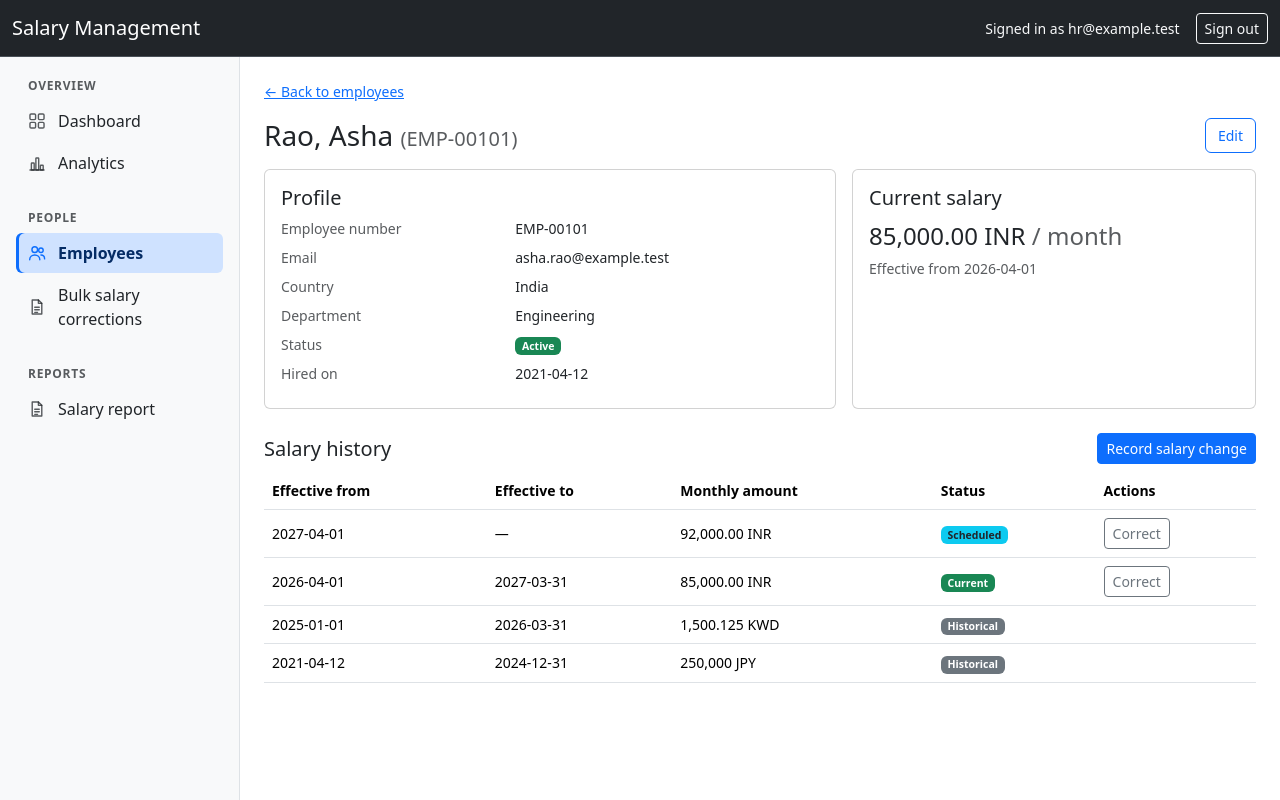
Test case: Correct salary record › lists API messages the dialog has no field for
This screenshot has width=1280, height=800.
Expected: the button "Record salary change" is enabled, [1098, 433, 1256, 464]
Click the button with aria-label "Correct salary effective from 2027-04-01": (1137, 534) [1104, 518, 1170, 549]
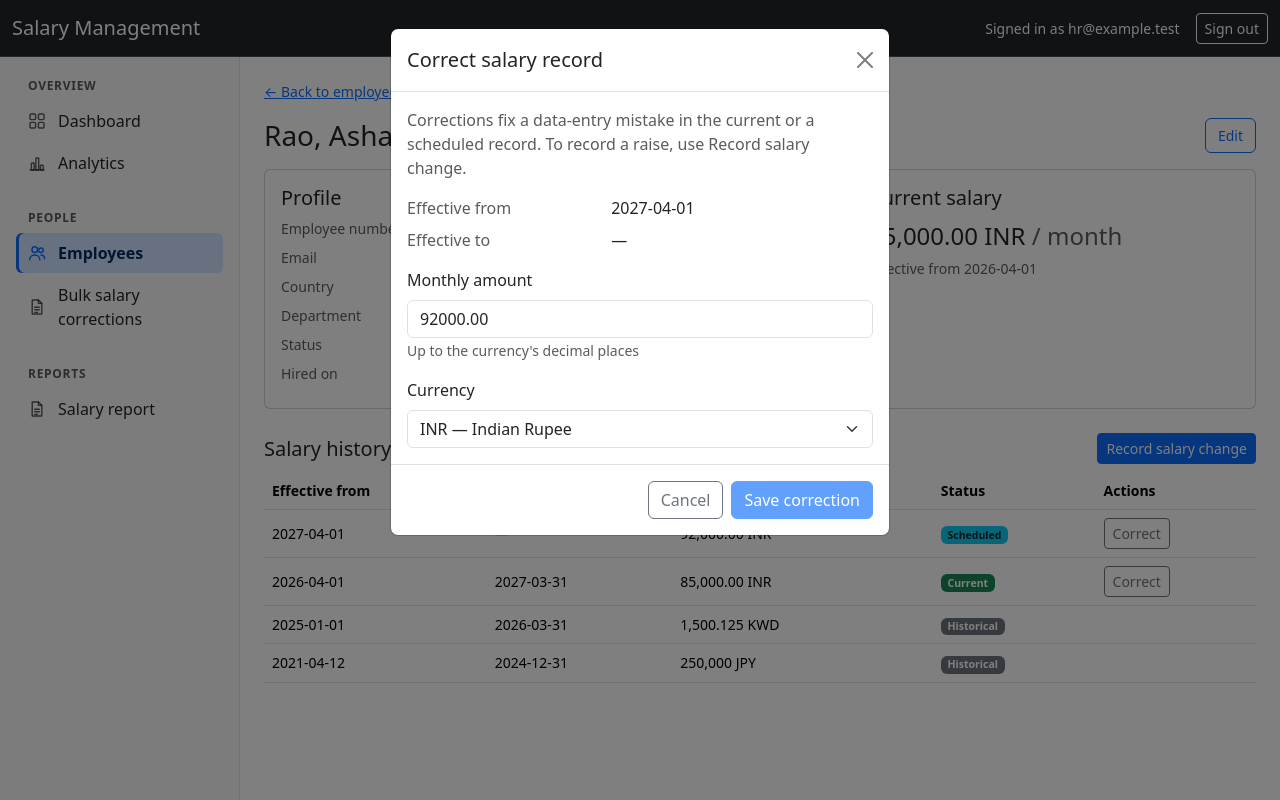
Replace the text in the field labelled "Monthly amount" with "1": (640, 319) [407, 300, 873, 338]
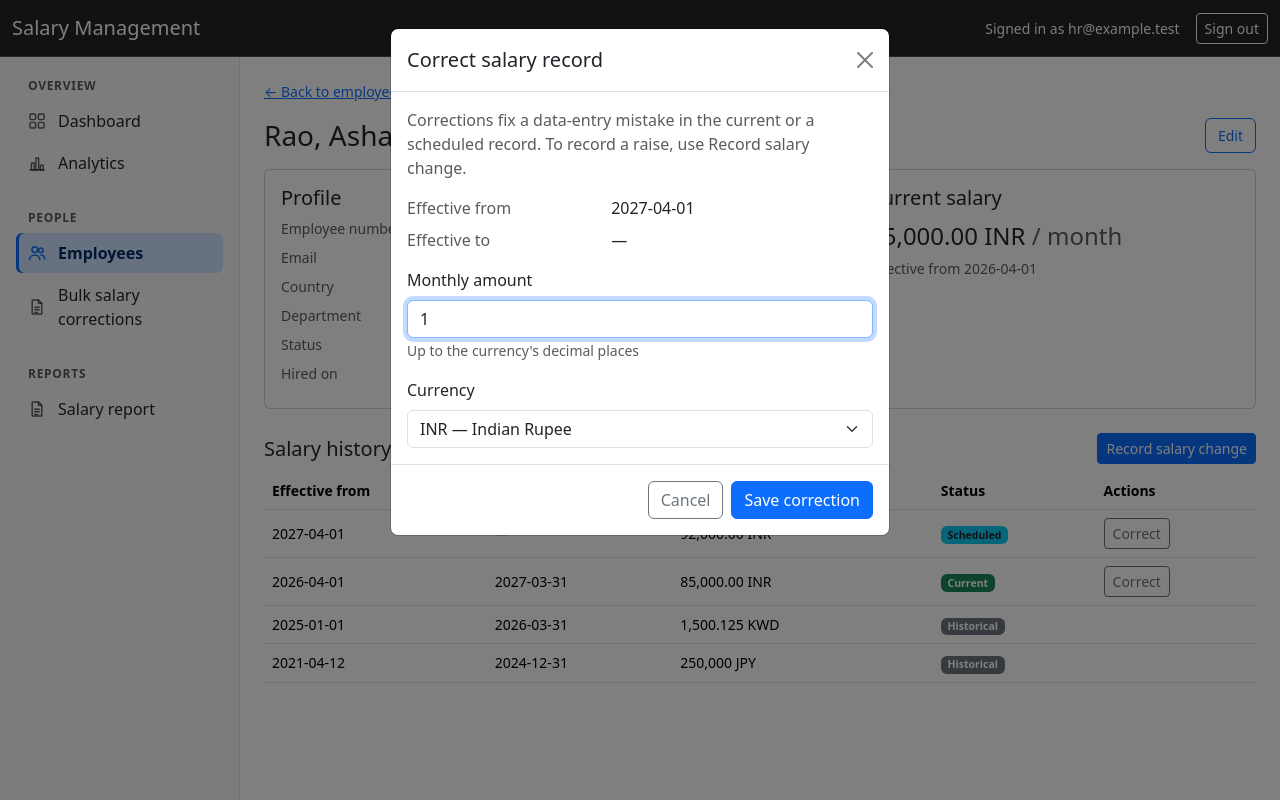
Click the button "Save correction": (802, 500) [732, 481, 873, 519]
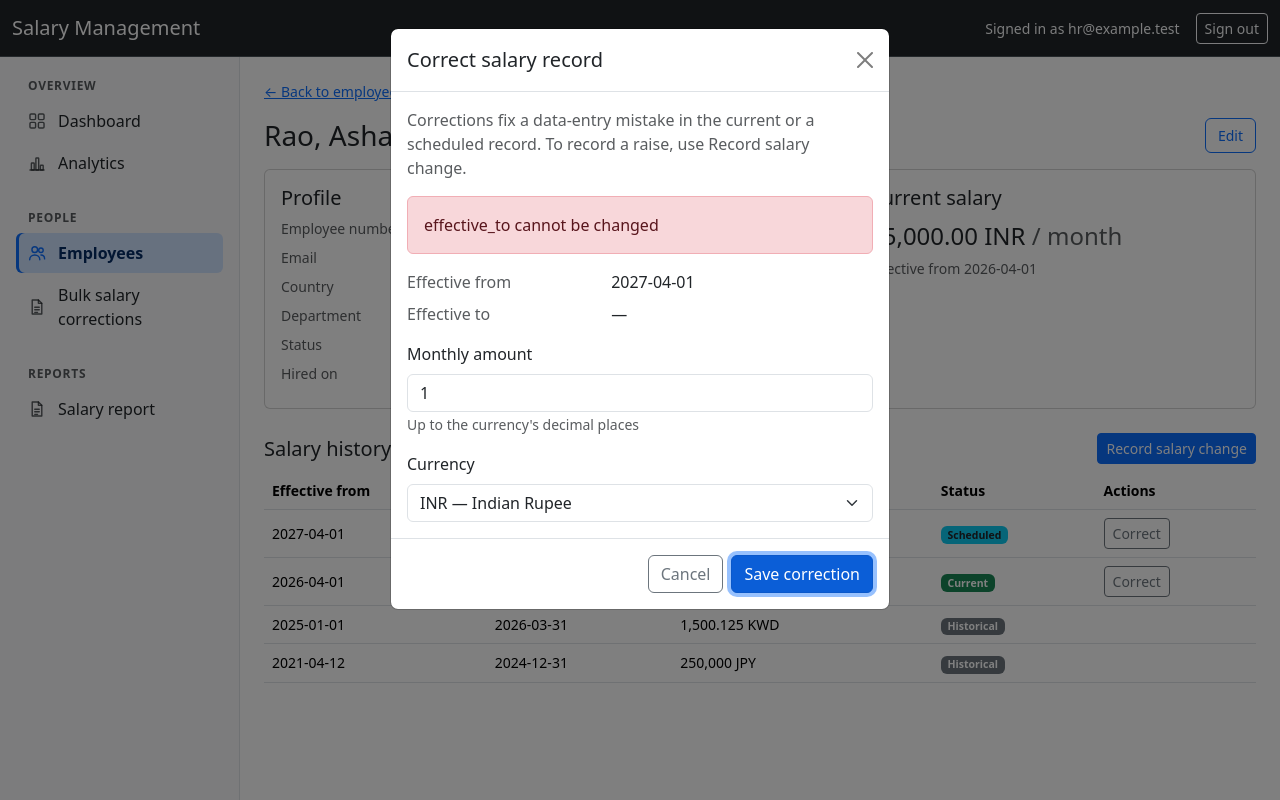
Now the message reads "effective_to cannot be changed", box [424, 214, 659, 236]
